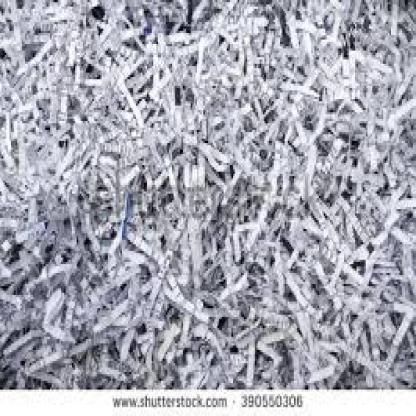paper: (0, 0, 415, 386)
